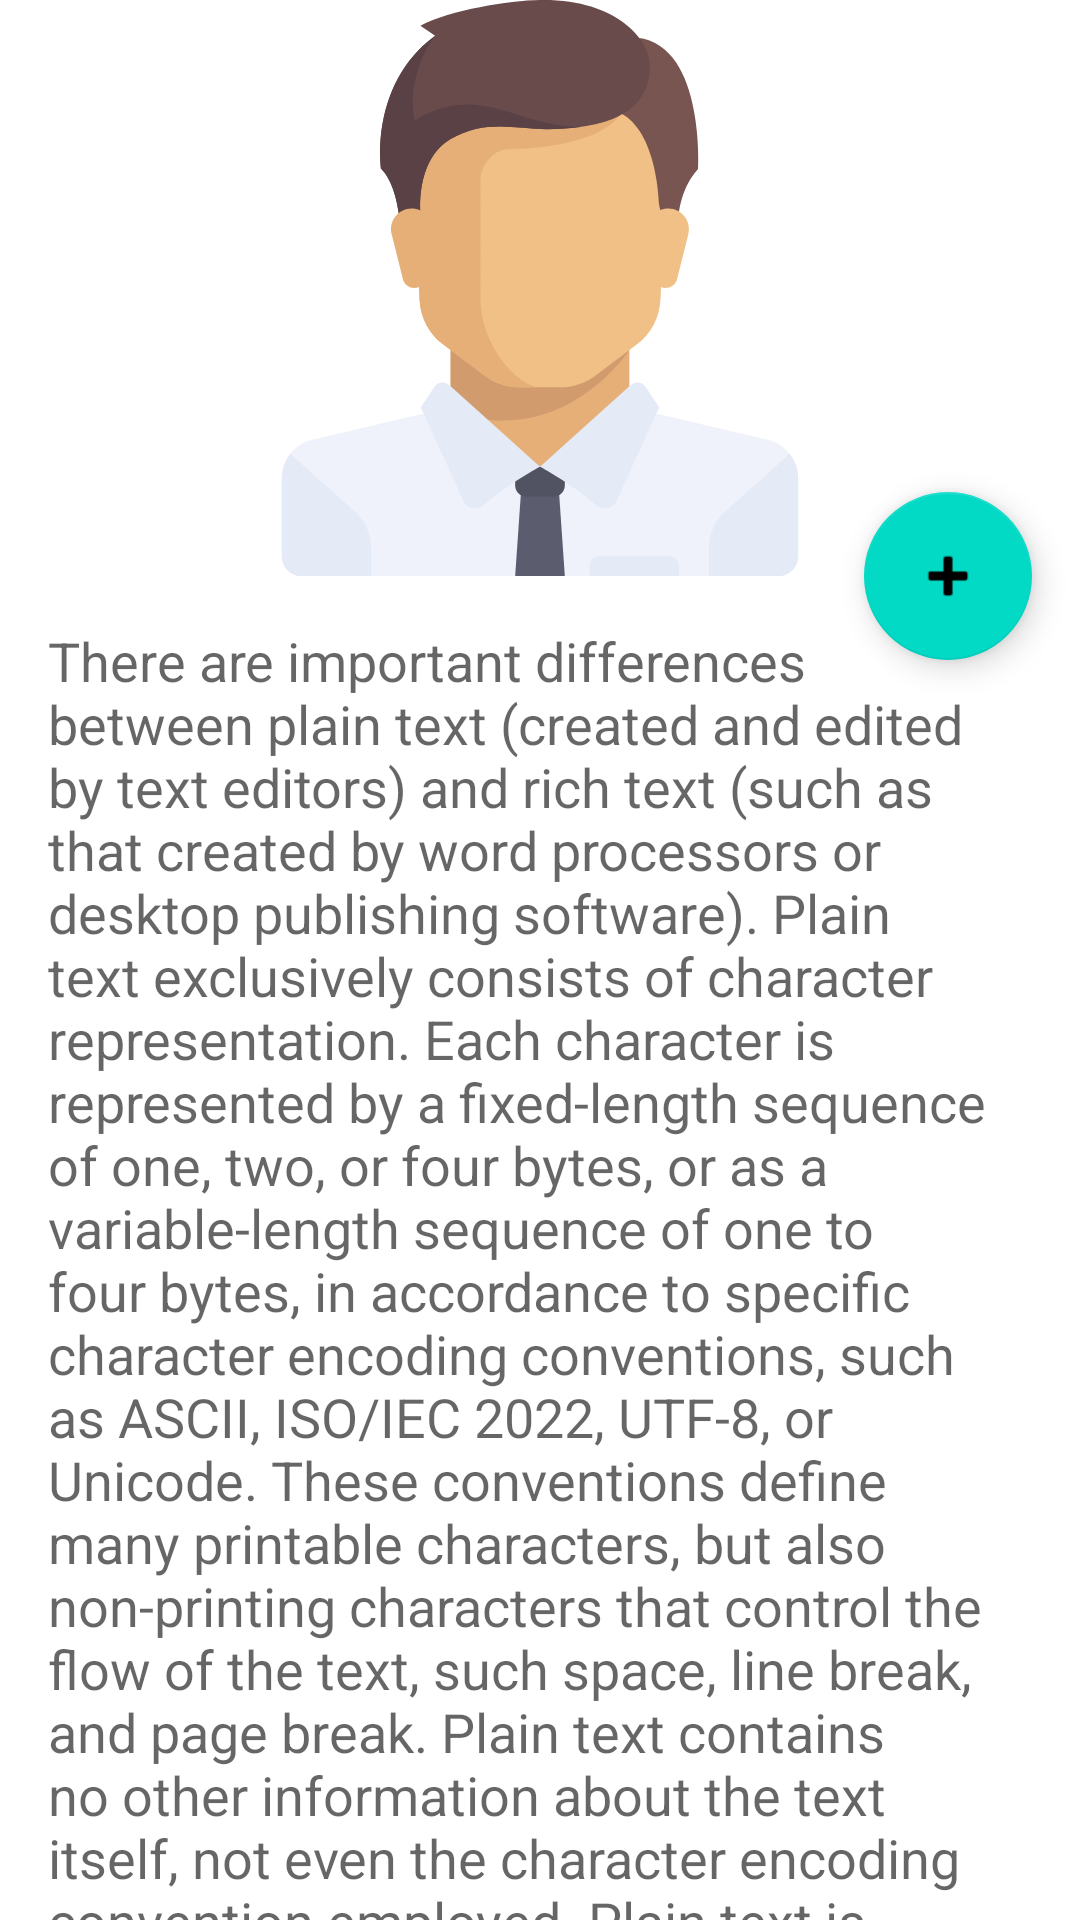

Where icons sit on this 1080x1920 app screen, as [x1,y1,x2,y2]:
add: [864,492,1032,660]
